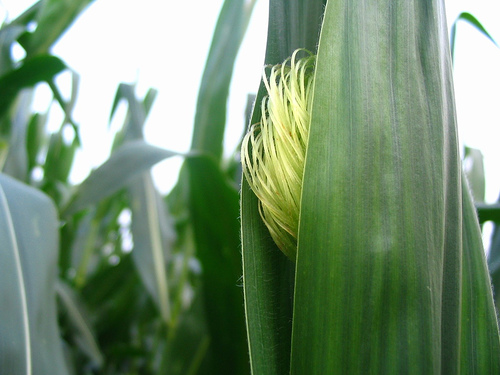corn: (237, 0, 499, 374)
